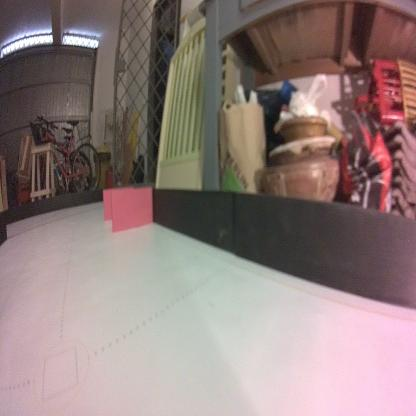magenta: (110, 186, 152, 236), (102, 184, 134, 221)
